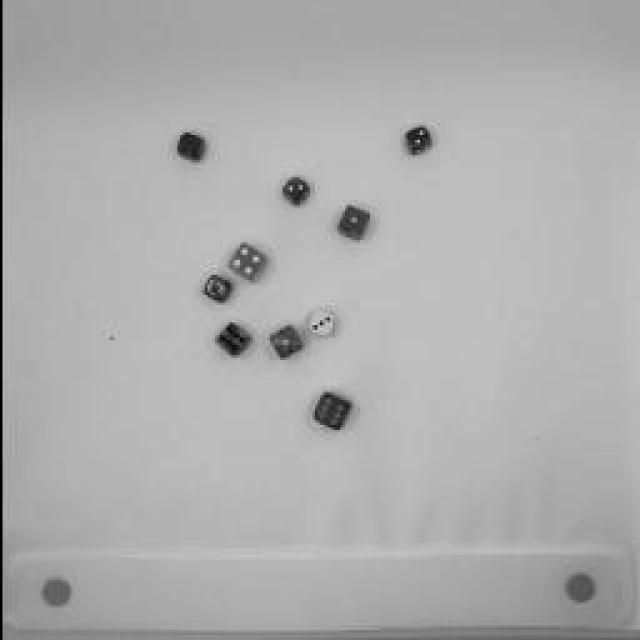dice_1: (265, 322, 303, 362), (335, 205, 370, 245), (198, 274, 232, 306)
dice_2: (279, 175, 311, 210), (400, 125, 432, 157)
dice_3: (305, 309, 337, 341)
dice_4: (226, 241, 269, 289), (174, 130, 208, 165)
dice_6: (308, 389, 354, 436), (212, 320, 252, 360)
